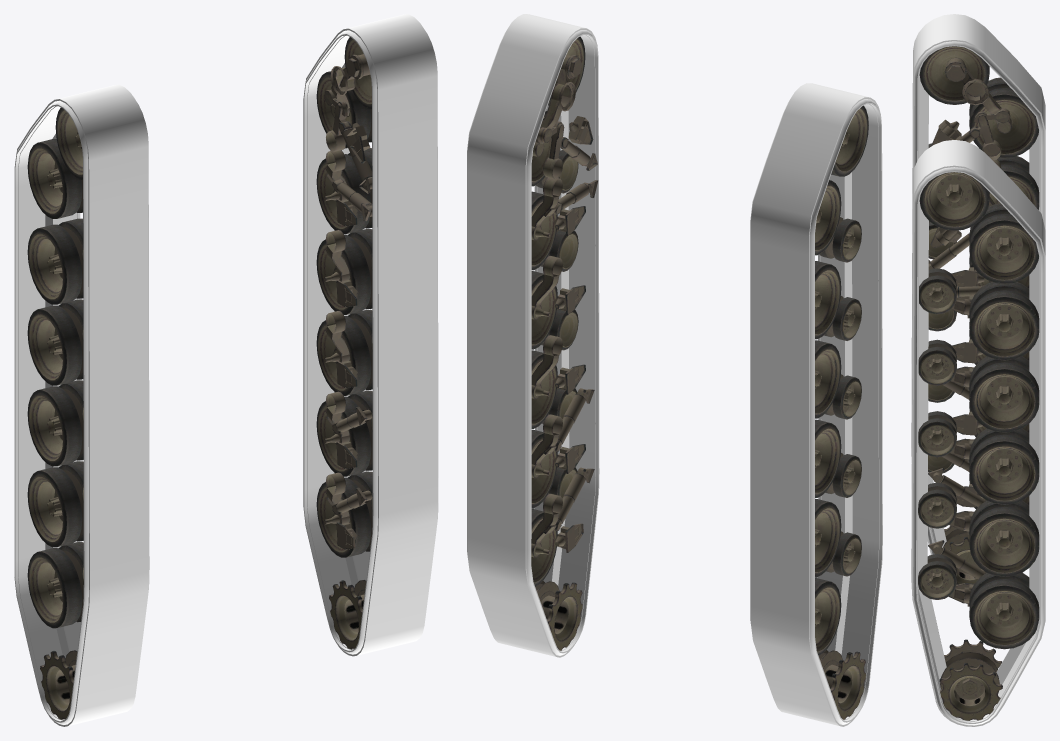
Rendered from Chassis.glb.
3 renders of one model, left to right at view 1: azimuth 30°, elevation 25°; view 2: azimuth 150°, elevation 25°; view 3: azimuth 270°, elevation 25°, orthographic. The views are drawn at different scales.
Parts seen in each view (by area): view 1: set_3_group_0, set_2_group_0, set_1_group_0, set_0_group_0; view 2: set_3_group_0, set_2_group_0, set_1_group_0, set_0_group_0; view 3: set_1_group_0, set_2_group_0, set_0_group_0, set_3_group_0.
Part boxes in pixels (x1,y1,x2,y2): set_3_group_0: (14, 84, 149, 726); set_2_group_0: (303, 14, 438, 656); set_1_group_0: (316, 37, 372, 649); set_0_group_0: (27, 107, 83, 719); set_3_group_0: (750, 83, 882, 726); set_2_group_0: (467, 14, 599, 657); set_1_group_0: (531, 36, 598, 650); set_0_group_0: (815, 105, 868, 719); set_1_group_0: (918, 172, 1039, 720); set_2_group_0: (911, 140, 1045, 726); set_0_group_0: (919, 46, 1039, 584); set_3_group_0: (911, 14, 1045, 554).
Size of the model in its own units: 3.42 by 5.81 by 1.26.
4 materials, 2 textured.
